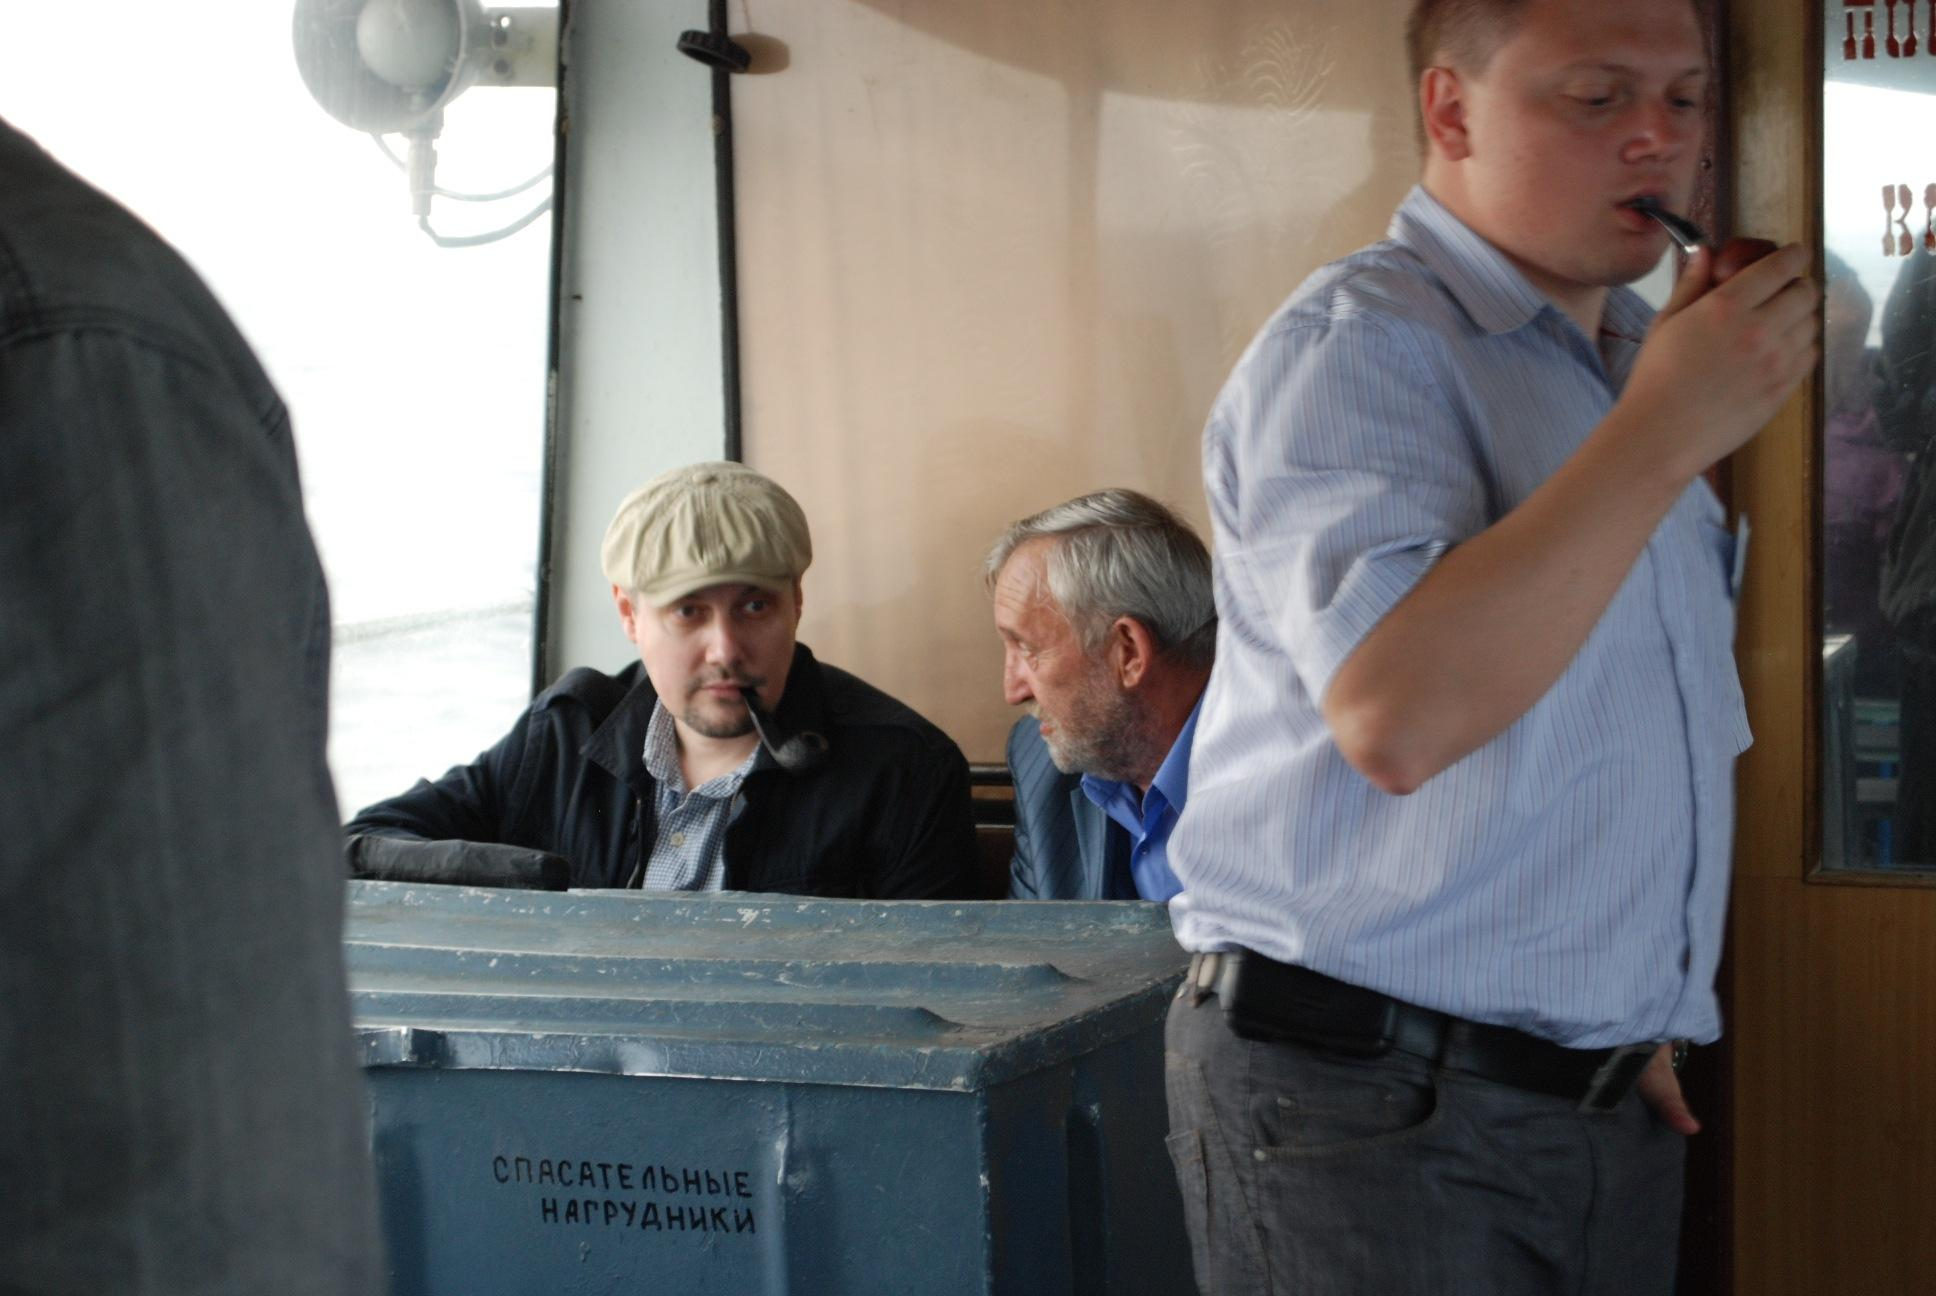trubka: (1637, 202, 1776, 286), (739, 687, 831, 780)
